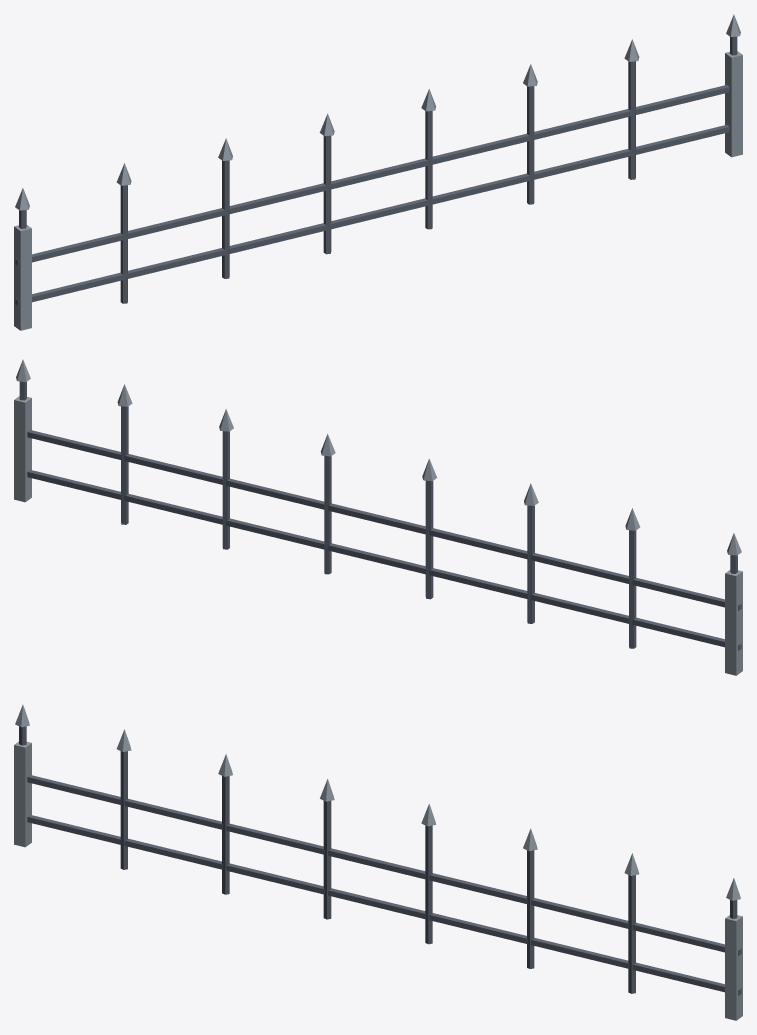
Rendered from verja_tramo.glb.
3 views of the same model, one above another, from view 1: azimuth 30°, elevation 25°; view 2: azimuth 150°, elevation 25°; view 3: azimuth 330°, elevation 25° (orthographic).
Visible parts, largest first — view 1: verja_tramo; view 2: verja_tramo; view 3: verja_tramo.
Boxes of the visible parts, left/top/right/bottom form: verja_tramo: left=14, top=14, right=742, bottom=330; verja_tramo: left=14, top=359, right=742, bottom=675; verja_tramo: left=14, top=705, right=742, bottom=1020.
Bounding box in the file's own units: 11.41 × 2.1 × 0.2092.
